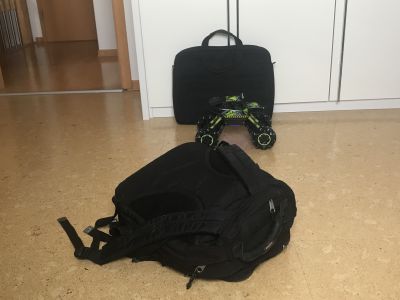remote control car: (192, 93, 278, 152)
